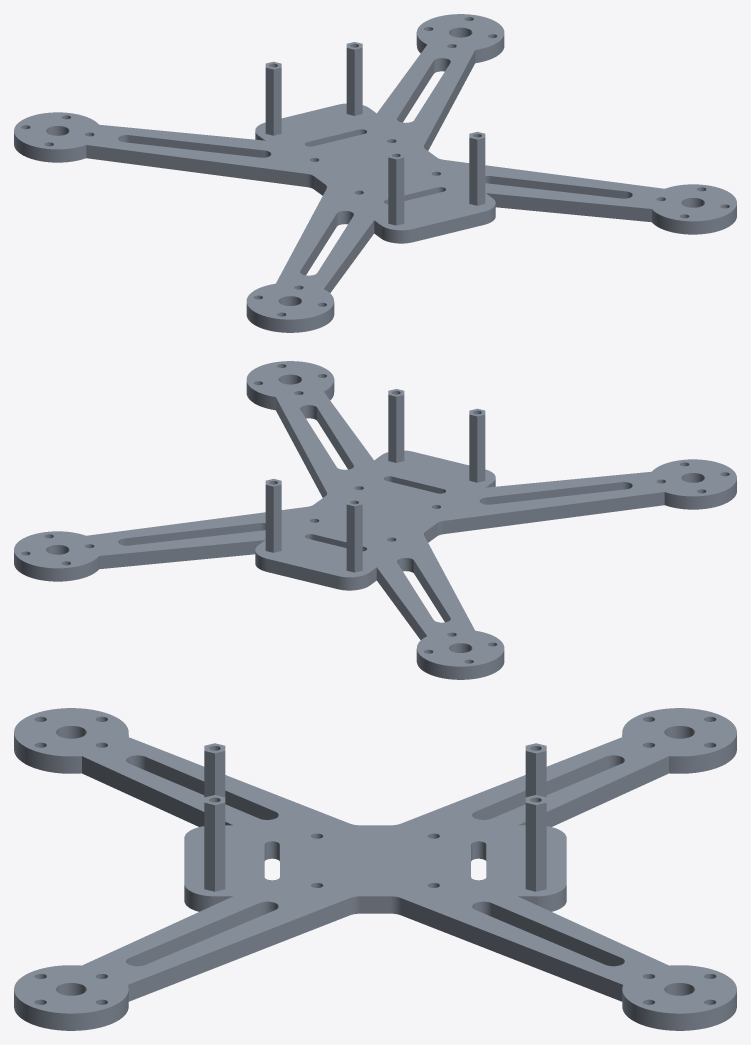
Rendered from step-5-preview-1.glb.
The picture shows the model from 3 angles, top to bottom: view 1: azimuth 30°, elevation 25°; view 2: azimuth 150°, elevation 25°; view 3: azimuth 270°, elevation 25°; orthographic projection. The views are drawn at different scales.
Parts seen in each view (by area): view 1: preview_4, preview_16, preview_11, preview_6, preview_13, preview_46, preview_60, preview_18, preview_5, preview_23, preview_2, preview_112 (+8 smaller); view 2: preview_4, preview_8, preview_27, preview_18, preview_25, preview_75, preview_35, preview_6, preview_26, preview_15, preview_20, preview_102 (+8 smaller); view 3: preview_4, preview_15, preview_23, preview_2, preview_20, preview_13, preview_25, preview_48, preview_73, preview_37, preview_58, preview_6 (+6 smaller).
Boxes of the visible parts, <box> form: preview_4: <box>14,14,736,319</box>; preview_16: <box>86,145,307,186</box>; preview_11: <box>486,193,651,222</box>; preview_6: <box>246,302,334,332</box>; preview_13: <box>652,205,736,234</box>; preview_46: <box>490,176,626,198</box>; preview_60: <box>129,135,264,157</box>; preview_18: <box>14,132,86,162</box>; preview_5: <box>413,212,483,242</box>; preview_23: <box>424,50,475,150</box>; preview_2: <box>324,220,374,292</box>; preview_112: <box>273,67,281,135</box>; preview_4: <box>14,361,736,666</box>; preview_8: <box>443,492,664,533</box>; preview_27: <box>99,540,264,569</box>; preview_18: <box>416,649,504,679</box>; preview_25: <box>14,552,98,581</box>; preview_75: <box>124,523,260,545</box>; preview_35: <box>486,482,621,504</box>; preview_6: <box>664,479,736,509</box>; preview_26: <box>267,559,337,589</box>; preview_15: <box>275,397,326,497</box>; preview_20: <box>376,567,426,639</box>; preview_102: <box>469,414,477,482</box>; preview_4: <box>14,708,736,1013</box>; preview_15: <box>128,898,349,1001</box>; preview_23: <box>401,898,622,1001</box>; preview_2: <box>82,756,232,826</box>; preview_20: <box>518,756,668,826</box>; preview_13: <box>14,991,128,1030</box>; preview_25: <box>622,991,736,1030</box>; preview_48: <box>129,903,259,966</box>; preview_73: <box>491,903,621,966</box>; preview_37: <box>145,757,275,819</box>; preview_58: <box>475,757,605,819</box>; preview_6: <box>14,734,128,773</box>.
Size of the model in its own units: 0.1891 by 0.03 by 0.1891.
